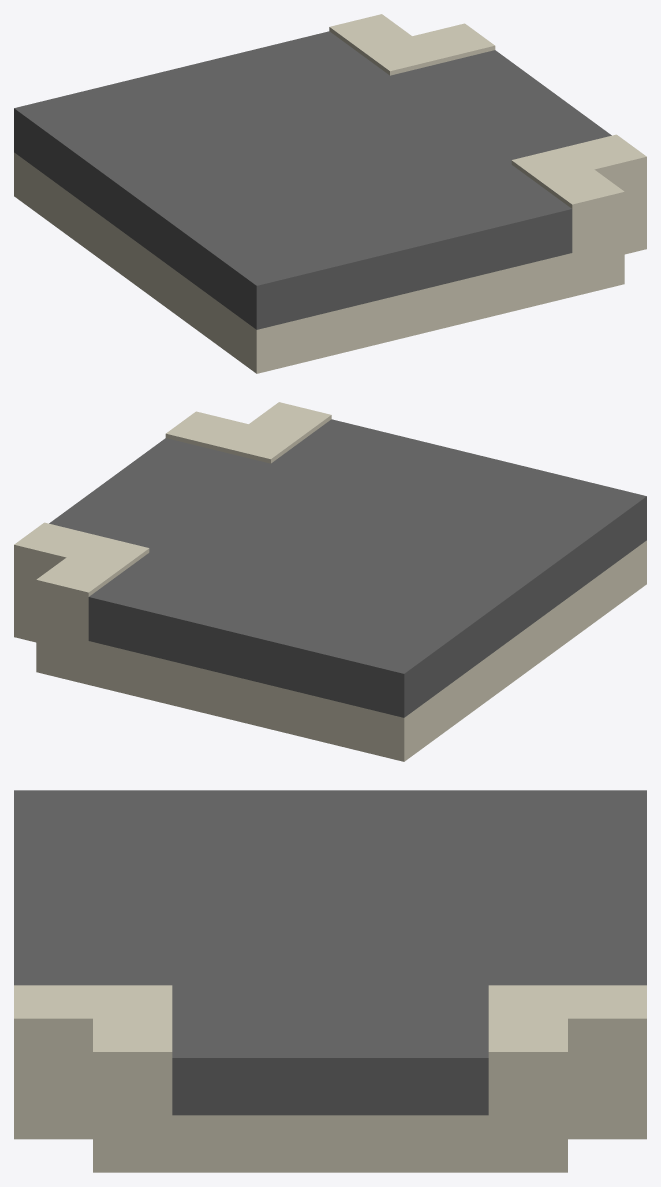
File: tile193.dae
The picture shows the model from 3 angles, top to bottom: view 1: azimuth 30°, elevation 25°; view 2: azimuth 150°, elevation 25°; view 3: azimuth 270°, elevation 25°; orthographic projection. The views are drawn at different scales.
Parts seen in each view (by area): view 1: tile193; view 2: tile193; view 3: tile193.
Part boxes in pixels (left/top/right/bottom): tile193: left=14, top=14, right=646, bottom=373; tile193: left=14, top=402, right=646, bottom=761; tile193: left=14, top=790, right=646, bottom=1172.
Size of the model in its own units: 1 by 0.21 by 1.
